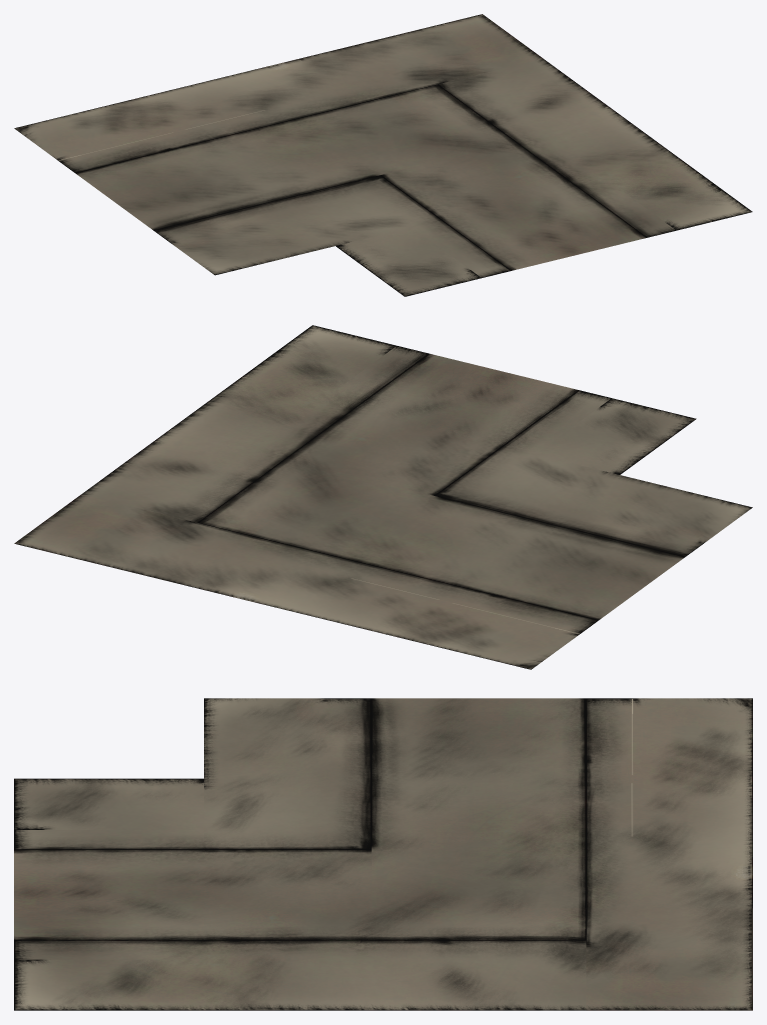
File: AngeledTunnel floor.fbx
The picture shows the model from 3 angles, top to bottom: view 1: azimuth 30°, elevation 25°; view 2: azimuth 150°, elevation 25°; view 3: azimuth 270°, elevation 25°; orthographic projection. The views are drawn at different scales.
Visible parts, largest first — view 1: Floor; view 2: Floor; view 3: Floor.
Part boxes in pixels (<box>): Floor: <box>14,14,752,296</box>; Floor: <box>14,325,752,669</box>; Floor: <box>14,698,752,1010</box>.
Size of the model in its own units: 796 by 796 by 0.
